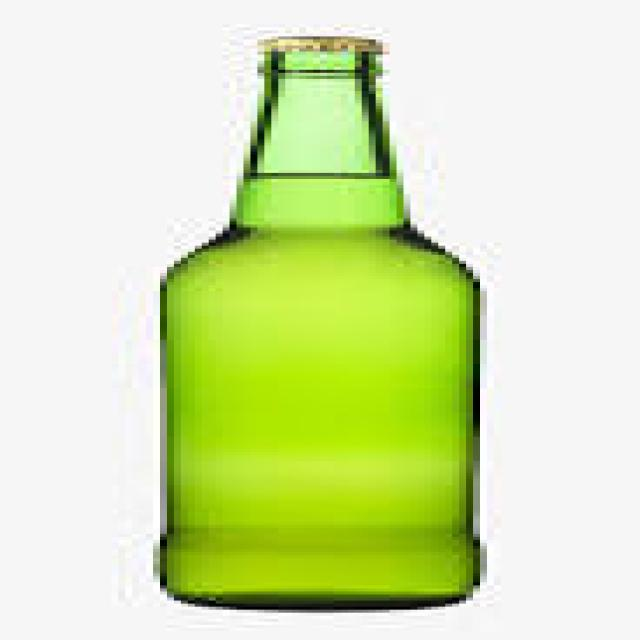Anorganik: (146, 49, 473, 606), (257, 34, 369, 52)
